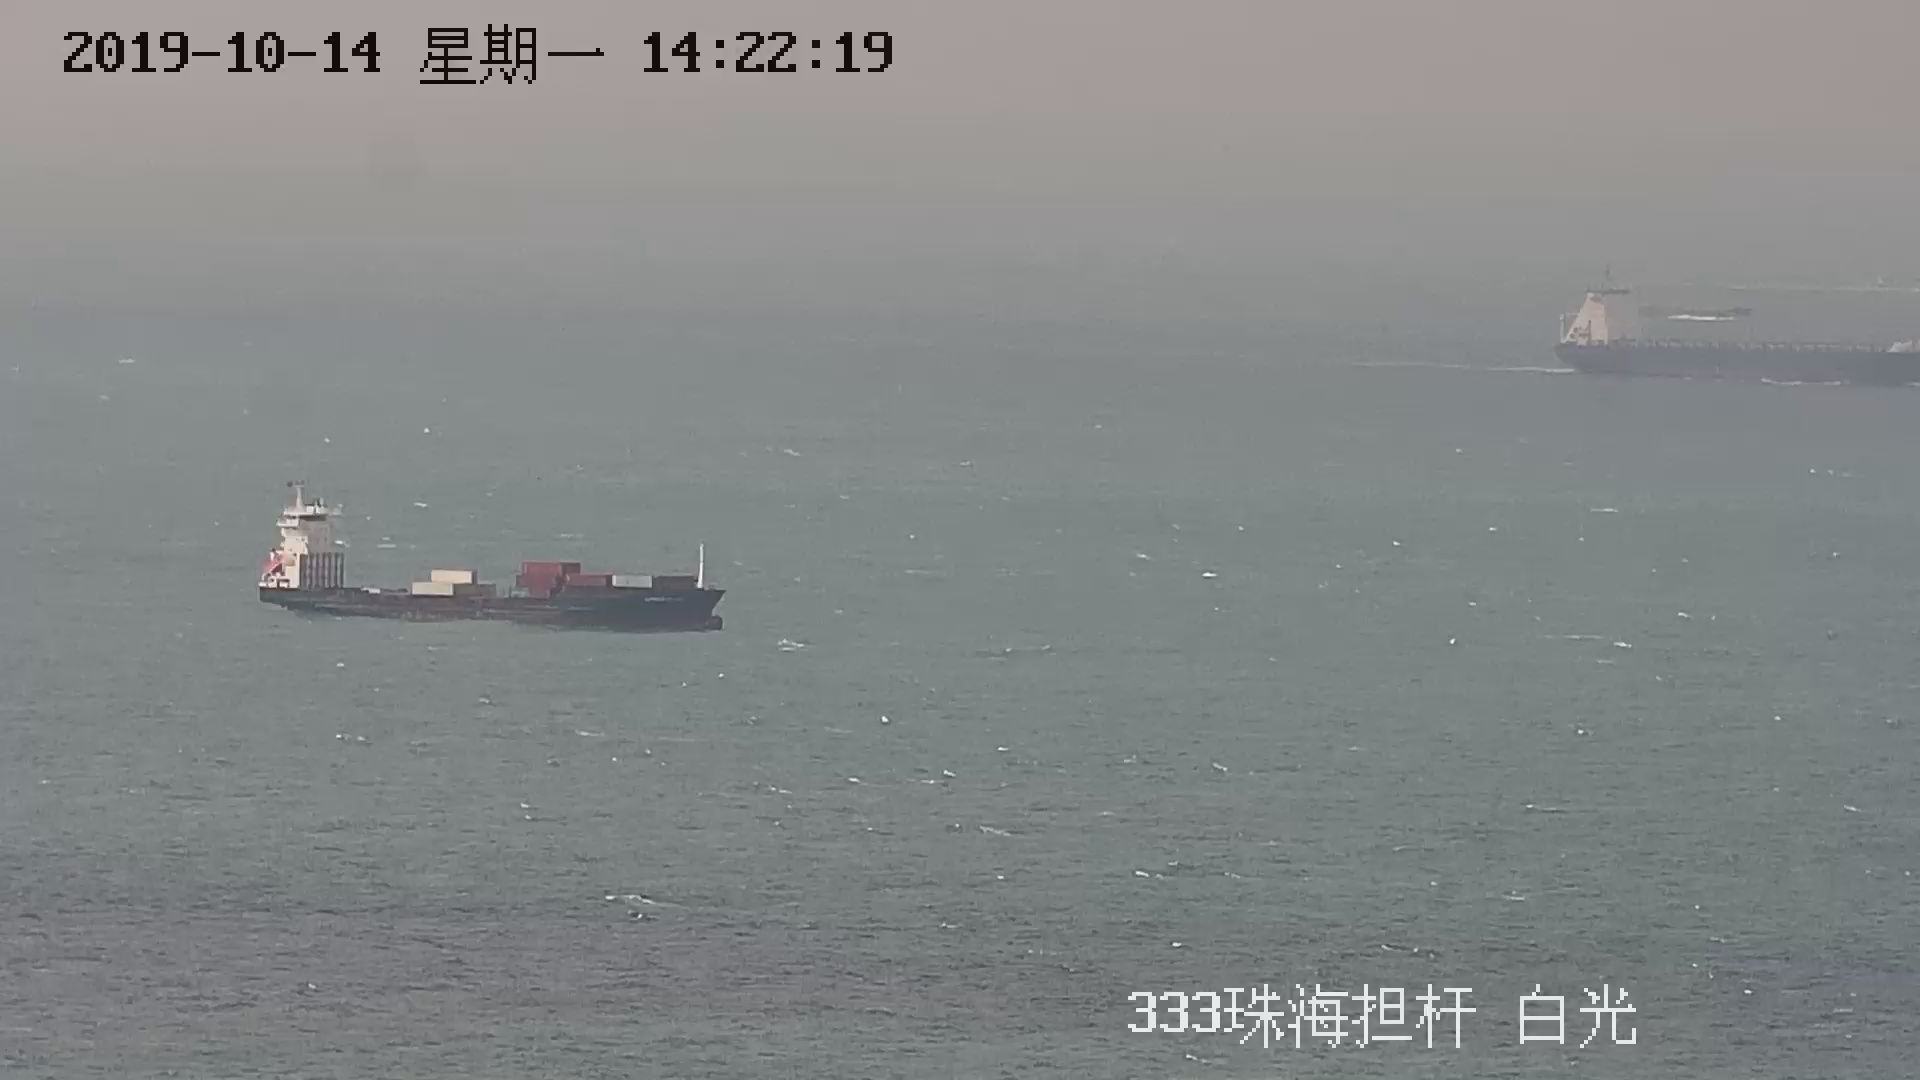ship: (255, 483, 740, 625), (1553, 269, 1917, 381)
